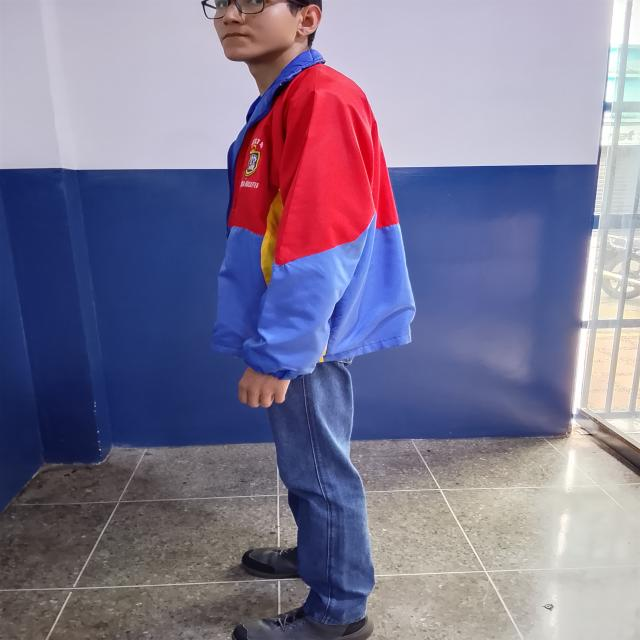chaqueta_unefa: (205, 49, 418, 380)
